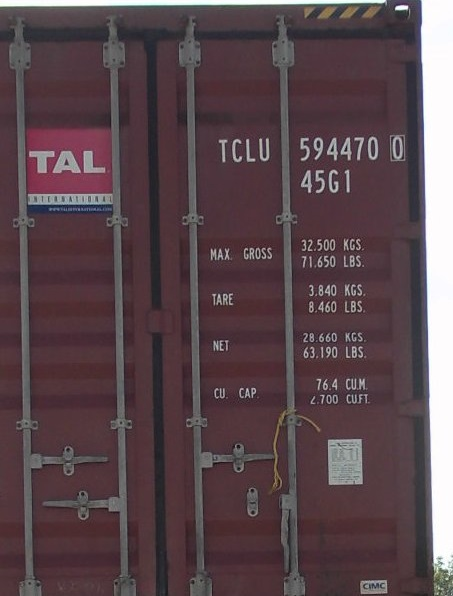container_door: (6, 13, 434, 594)
